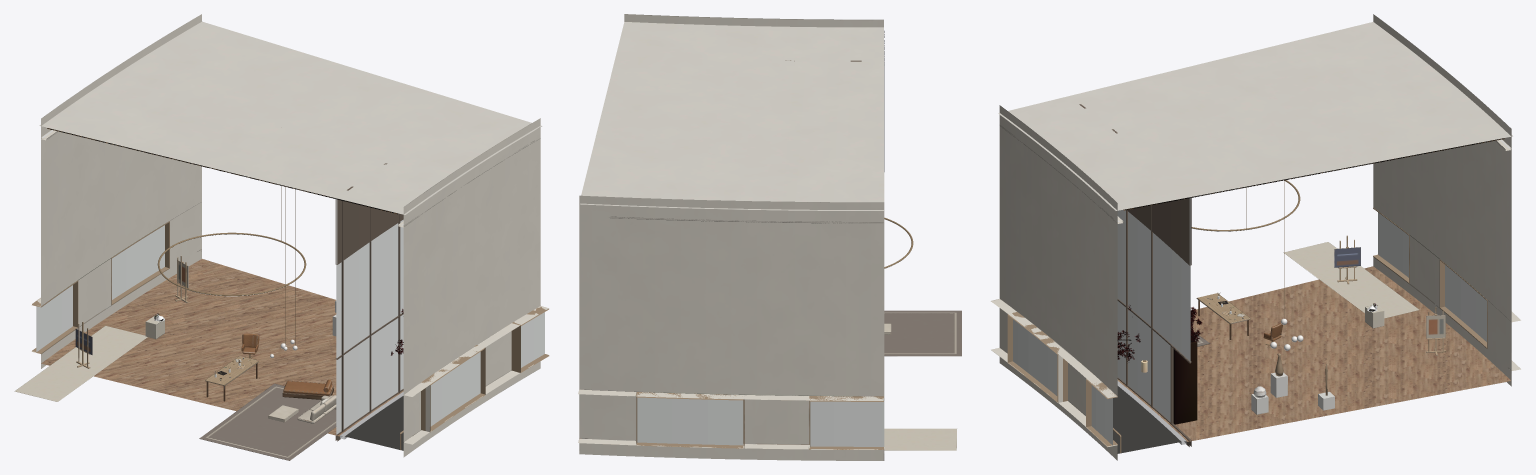
The picture shows the model from 3 angles, left to right: view 1: azimuth 30°, elevation 25°; view 2: azimuth 150°, elevation 25°; view 3: azimuth 270°, elevation 25°; orthographic projection. The views are drawn at different scales.
Parts seen in each view (by area): view 1: c3300, c3300 leaves; view 2: c3300; view 3: c3300, c3300 leaves.
Part boxes in pixels (left/top/right/bottom): c3300: left=14, top=14, right=549, bottom=460; c3300 leaves: left=47, top=128, right=403, bottom=355; c3300: left=578, top=14, right=961, bottom=460; c3300: left=991, top=14, right=1520, bottom=460; c3300 leaves: left=1117, top=138, right=1504, bottom=424.
Size of the model in its own units: 23.61 by 13.21 by 24.63.
17 materials, 1 textured.
